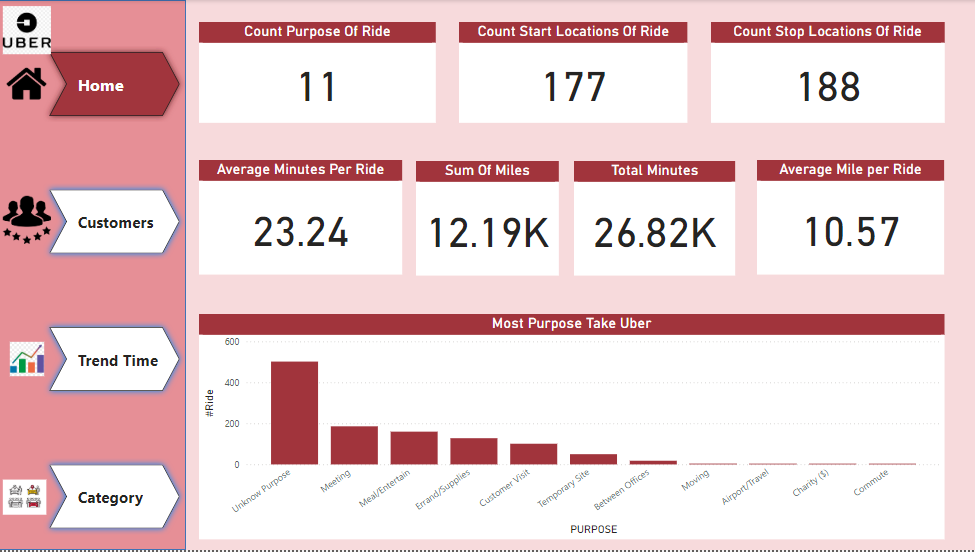

Layout of this report page (visuals, bound fields, positions):
{"tool":"powerbi","page":{"name":"Home","canvas":[1280,720],"ordinal":0},"visuals":[{"type":"shape","title":"Menu BG","box":[0,0,244.8,720],"z":0},{"type":"pageNavigator","title":"Menu Buttons","box":[57.6,54.7,187.2,650],"z":1000},{"type":"image","box":[0,79,73,62.3],"z":2000},{"type":"image","box":[0,250.8,73,73],"z":3000},{"type":"image","box":[9.1,442.4,54.7,54.7],"z":4000},{"type":"clusteredColumnChart","title":"Most Purpose Take Uber","fields":{"Category":["UberDataset.PURPOSE"],"Y":["Measure.#Ride"]},"box":[261.5,410.5,976,294.9],"z":5000},{"type":"image","box":[0,621.8,66.9,57.8],"z":6000},{"type":"card","title":"Count Purpose Of Ride","fields":{"Values":["Measure.#Purpose"]},"box":[261.5,28.9,310.1,132.3],"z":7000},{"type":"card","title":"Count Start Locations Of Ride","fields":{"Values":["Measure.#StartLocationRide"]},"box":[602,28.9,299.5,132.3],"z":8000},{"type":"card","title":"Count Stop Locations Of Ride","fields":{"Values":["Measure.#StopLocationRide"]},"box":[931.9,28.9,305.6,132.3],"z":9000},{"type":"card","title":"Average Minutes Per Ride","fields":{"Values":["Measure.AverageMinute"]},"box":[261.5,209.8,266,150.5],"z":10000},{"type":"card","title":"Sum Of Miles","fields":{"Values":["Sum(UberDataset.MILES)"]},"box":[545.7,211.3,187,150.5],"z":11000},{"type":"card","title":"Total Minutes","fields":{"Values":["Measure.Total Minutes"]},"box":[752.5,211.3,211.3,150.5],"z":12000},{"type":"card","title":"Average Mile per Ride","fields":{"Values":["Measure.AverageMileperRide"]},"box":[992.7,209.8,244.8,150.5],"z":13000},{"type":"image","box":[0,0,73.4,79.2],"z":14000}]}

Visuals, with their boxes in screenshot pixels (x1, y1, x2, y2), scaled from the page's 1280x720 canvas onto the 975x552 screenshot:
"Menu BG" shape: bbox=(0, 0, 186, 551)
"Menu Buttons" pageNavigator: bbox=(44, 42, 186, 540)
image: bbox=(0, 61, 56, 108)
image: bbox=(0, 192, 56, 248)
image: bbox=(7, 339, 49, 381)
"Most Purpose Take Uber" clusteredColumnChart: bbox=(199, 315, 943, 541)
image: bbox=(0, 477, 51, 521)
"Count Purpose Of Ride" card: bbox=(199, 22, 435, 124)
"Count Start Locations Of Ride" card: bbox=(459, 22, 687, 124)
"Count Stop Locations Of Ride" card: bbox=(710, 22, 943, 124)
"Average Minutes Per Ride" card: bbox=(199, 161, 402, 276)
"Sum Of Miles" card: bbox=(416, 162, 558, 277)
"Total Minutes" card: bbox=(573, 162, 734, 277)
"Average Mile per Ride" card: bbox=(756, 161, 943, 276)
image: bbox=(0, 0, 56, 61)
